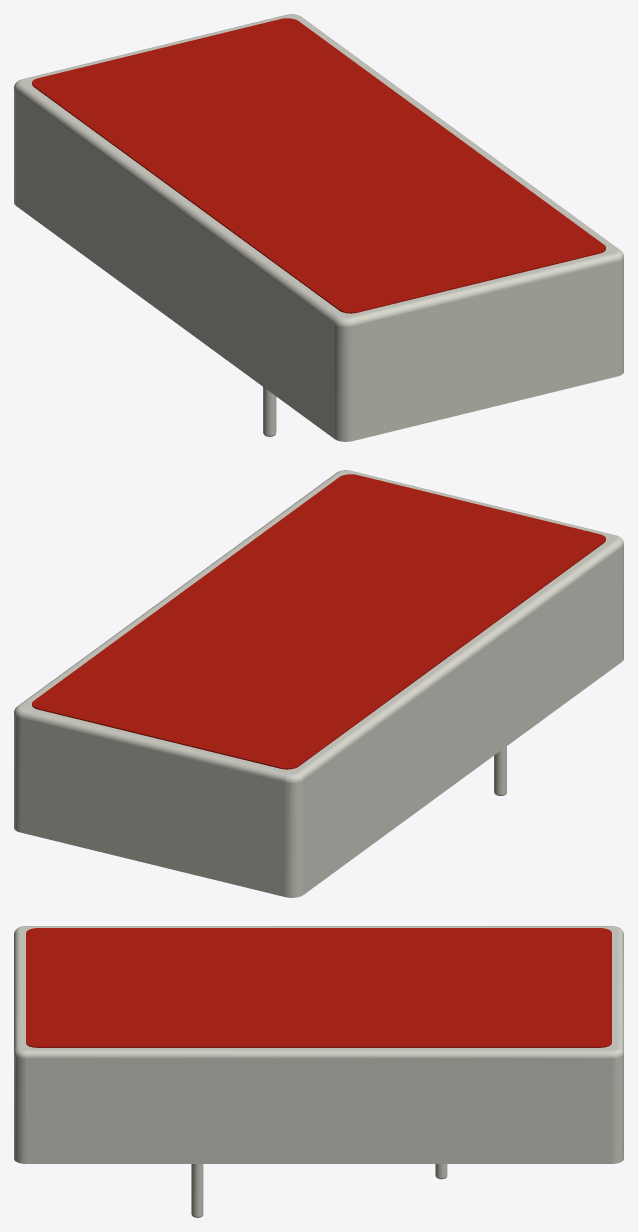
The model's file is kc-converter_dcdc_traco_ten10-xxxx_single_tht.glb.
3 views of the same model, one above another, from view 1: azimuth 30°, elevation 25°; view 2: azimuth 150°, elevation 25°; view 3: azimuth 270°, elevation 25° (orthographic). The views are drawn at different scales.
Visible parts, largest first — view 1: 0.4166666666666667_0_0_0, 0.6666666666666666_0.6666666666666666_0.5833333333333334_0.8; view 2: 0.4166666666666667_0_0_0, 0.6666666666666666_0.6666666666666666_0.5833333333333334_0.8; view 3: 0.6666666666666666_0.6666666666666666_0.5833333333333334_0.8, 0.4166666666666667_0_0_0.
Boxes of the visible parts, <box> form: 0.4166666666666667_0_0_0: <box>32,18,605,313</box>; 0.6666666666666666_0.6666666666666666_0.5833333333333334_0.8: <box>14,14,623,441</box>; 0.4166666666666667_0_0_0: <box>32,474,605,769</box>; 0.6666666666666666_0.6666666666666666_0.5833333333333334_0.8: <box>14,470,623,897</box>; 0.6666666666666666_0.6666666666666666_0.5833333333333334_0.8: <box>14,926,623,1217</box>; 0.4166666666666667_0_0_0: <box>26,928,611,1047</box>.
Size of the model in its own units: 2.54 by 1.63 by 5.08.
